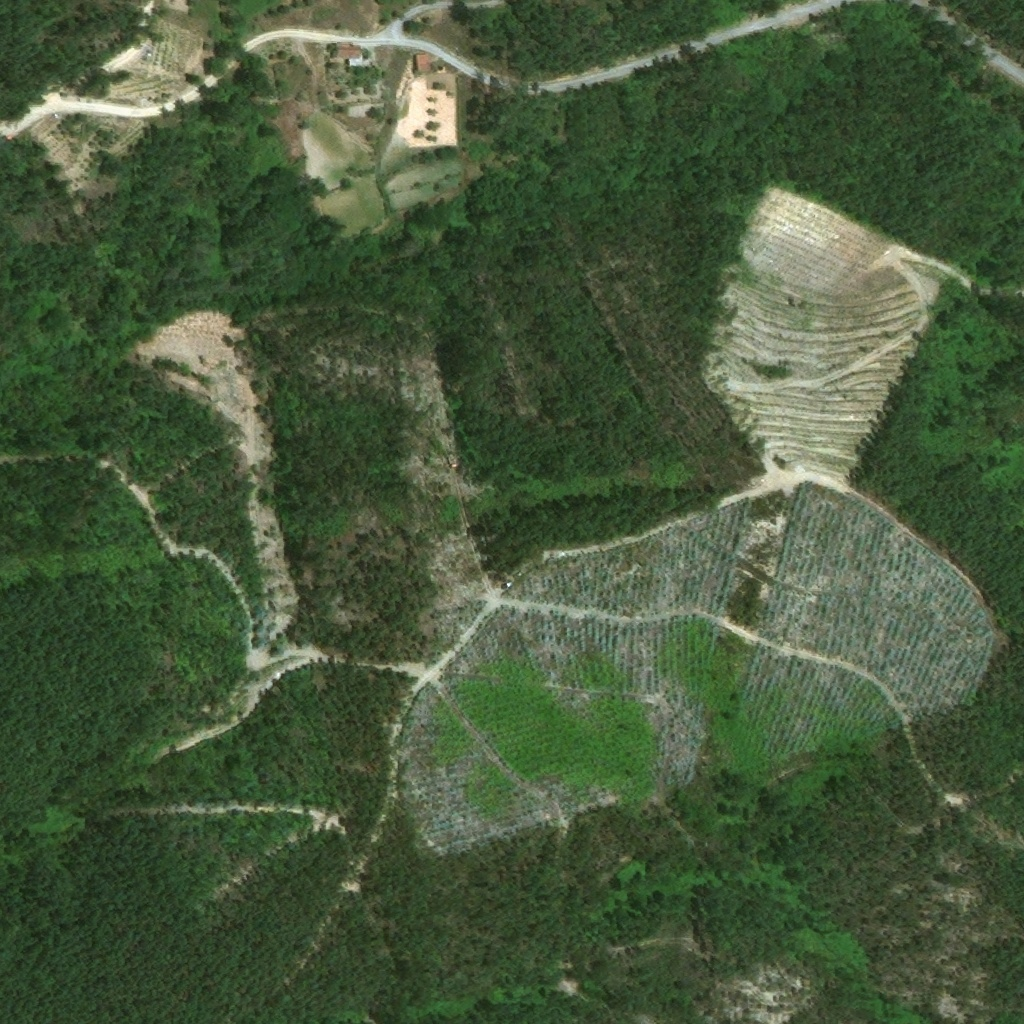0 no-damage: (337, 42, 362, 65), (414, 54, 427, 70)
